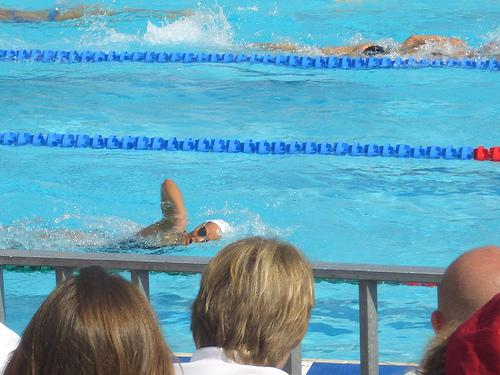swimmer: (103, 179, 232, 253)
